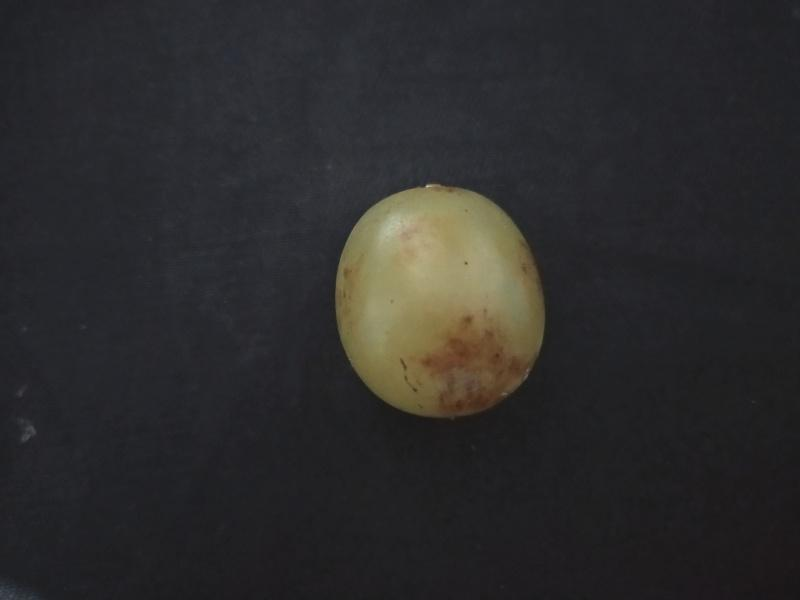Grape Rotten: (332, 183, 550, 421)
